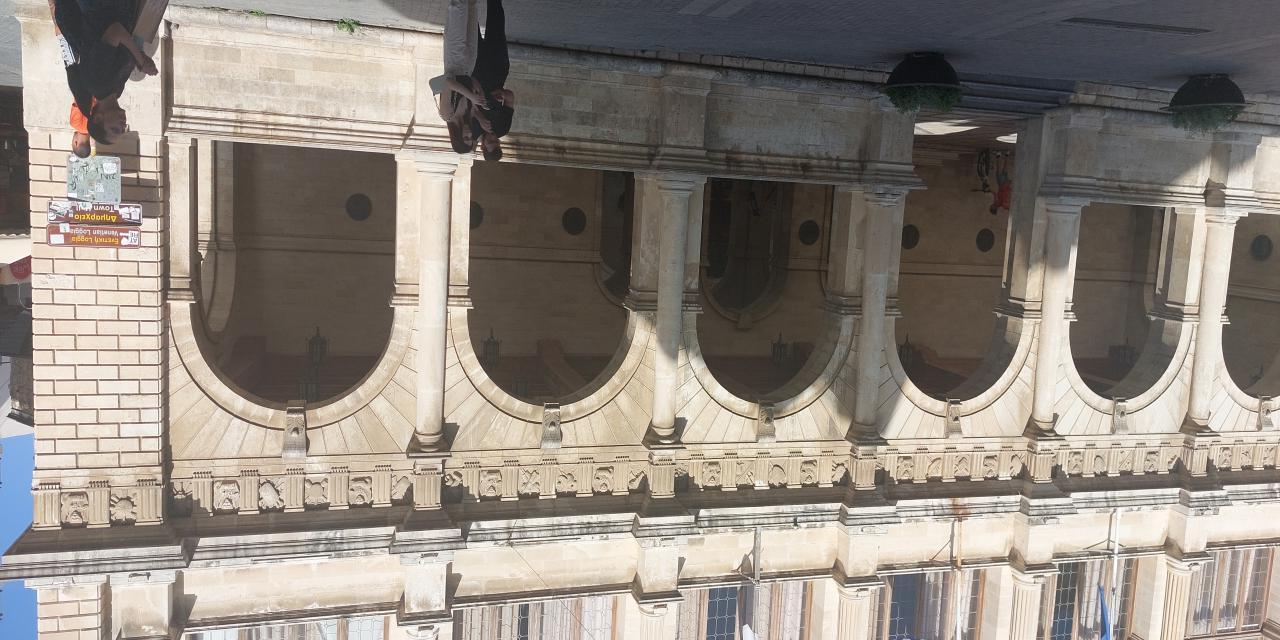Loggia: (1, 1, 1280, 640)
